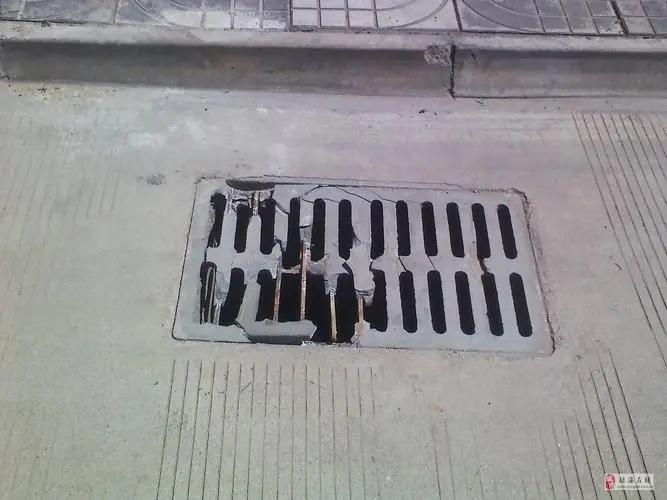wellcover: (169, 166, 563, 374)
